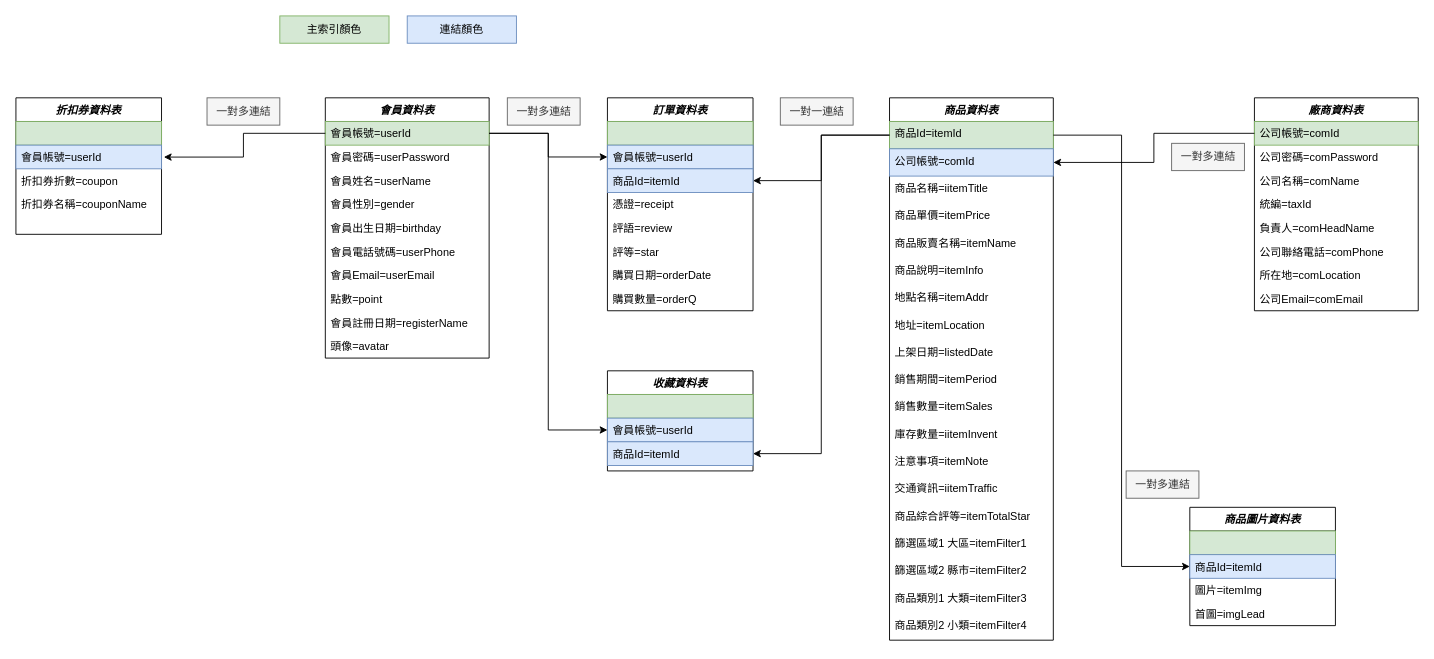
The diagram is 1434 pixels wide and 659 high, and some of its shapes have lost their labels. Here are the shapes that lost their labels. From the top down, the centre of each, then its label:
point 88,133: 折扣券id=couponId
point 680,133: 訂單編號=order
point 680,406: 收藏編號=favId
point 1262,542: 圖片Id=imgId
